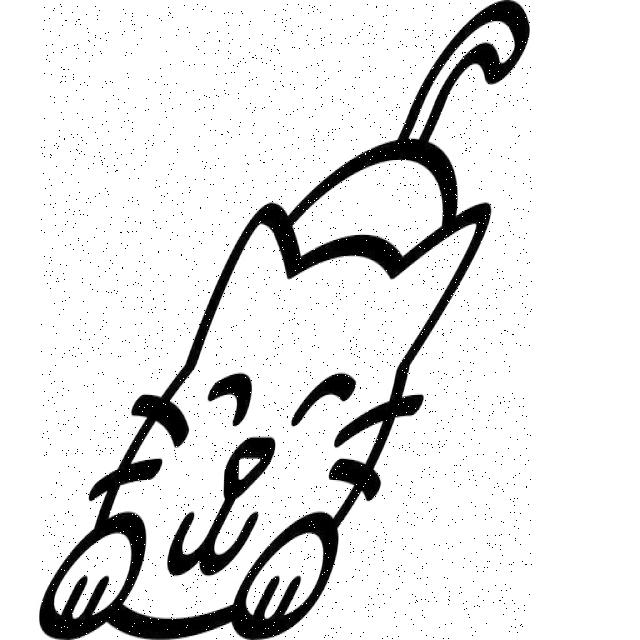cat: (42, 4, 533, 640)
